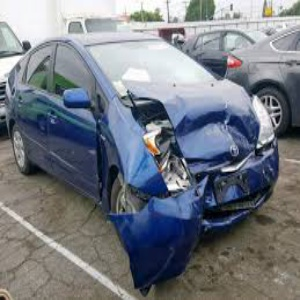bonnet: (146, 80, 256, 150)
